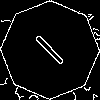I: (25, 25, 67, 68)
